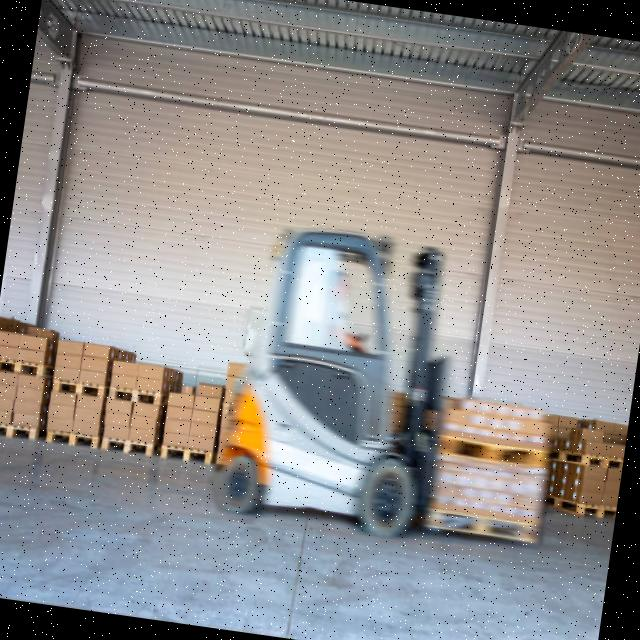Wooden-Pallets: (544, 486, 618, 528), (553, 441, 625, 477), (158, 437, 218, 477), (108, 382, 165, 412), (101, 432, 155, 462), (0, 351, 47, 385), (46, 424, 99, 454), (56, 377, 105, 402), (0, 418, 43, 446)
